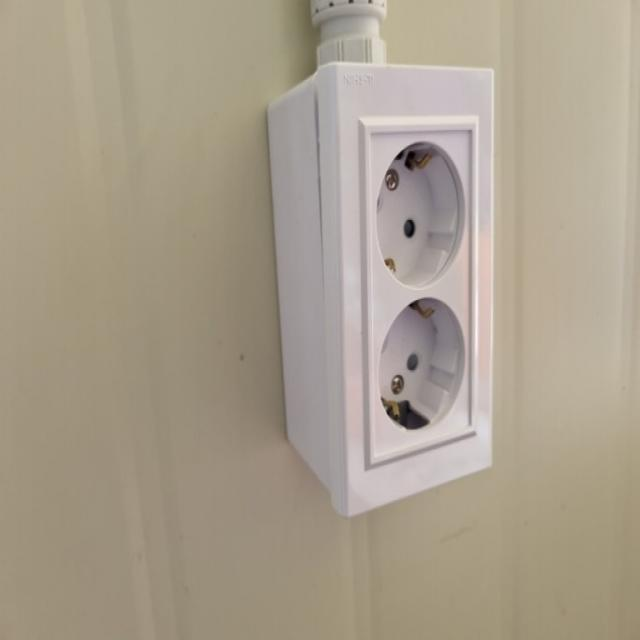typeb: (232, 0, 508, 542)
